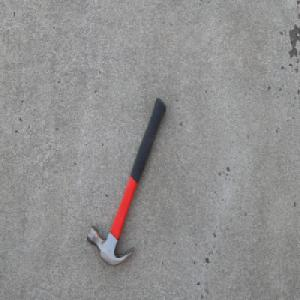Hammer: (86, 96, 166, 266)
